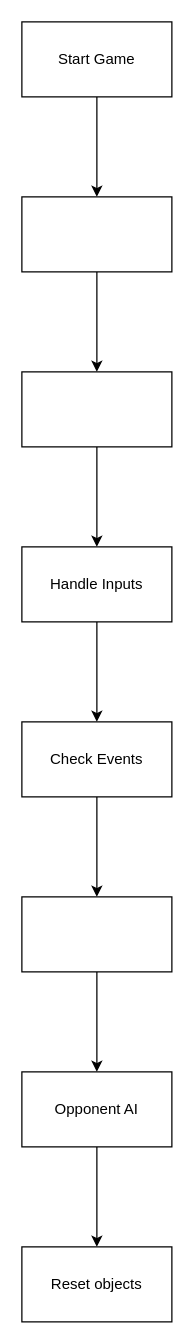
This 194x1344 diagram has some shape labels left out. Here are the shapes that lost their labels. From the top down, the centre of each, then its label:
At (x=96, y=234): "Update Game".
At (x=96, y=409): "Draw Objects".
At (x=96, y=934): "Check Scores".
